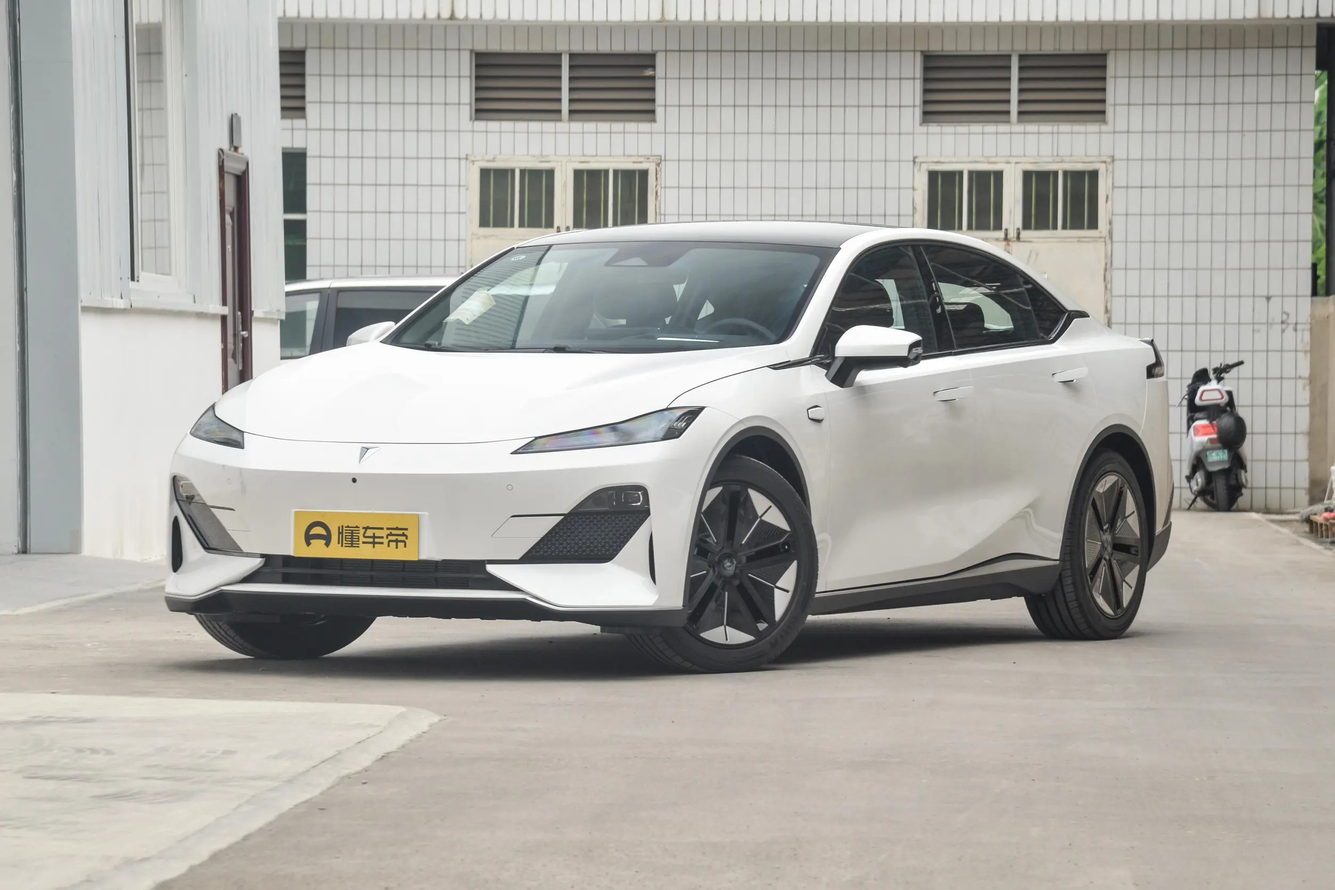Deepal: (359, 447, 380, 463)
